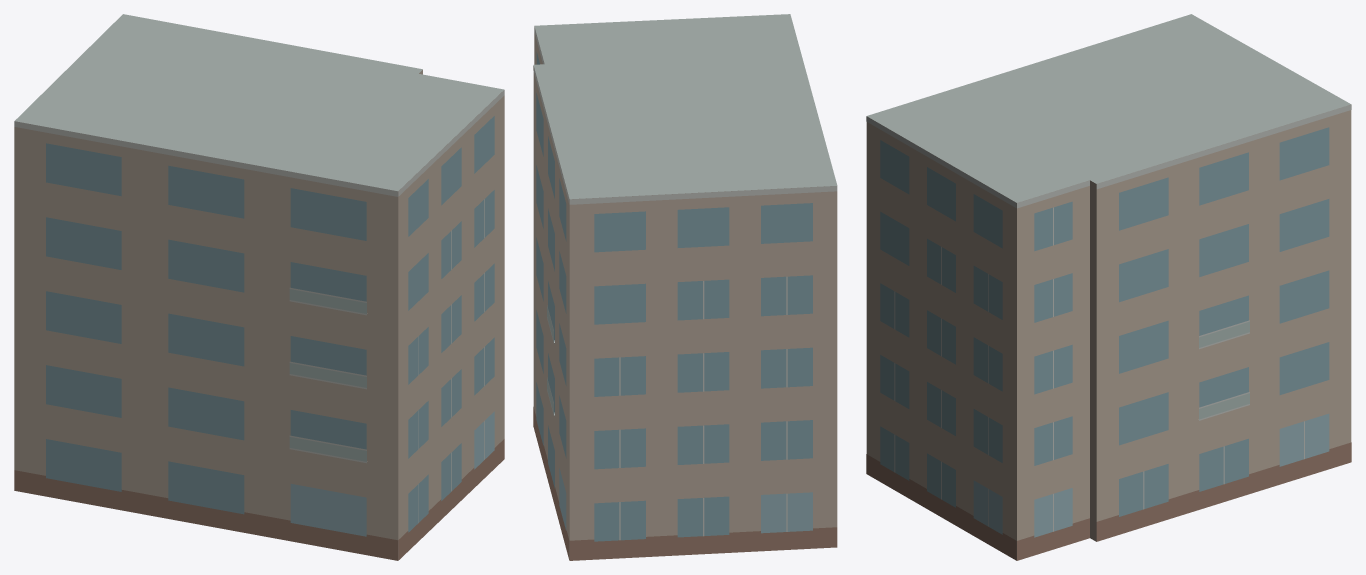
Rendered from survey-upis-32760381.glb.
The picture shows the model from 3 angles, left to right: view 1: azimuth 30°, elevation 25°; view 2: azimuth 150°, elevation 25°; view 3: azimuth 270°, elevation 25°; orthographic projection. The views are drawn at different scales.
Visible parts, largest first — view 1: survey-upis-32760381.tmp; view 2: survey-upis-32760381.tmp; view 3: survey-upis-32760381.tmp.
Part boxes in pixels (<box>): survey-upis-32760381.tmp: <box>14,14,504,560</box>; survey-upis-32760381.tmp: <box>533,14,837,560</box>; survey-upis-32760381.tmp: <box>866,14,1351,560</box>.
Size of the model in its own units: 17.96 by 15.85 by 19.48.
